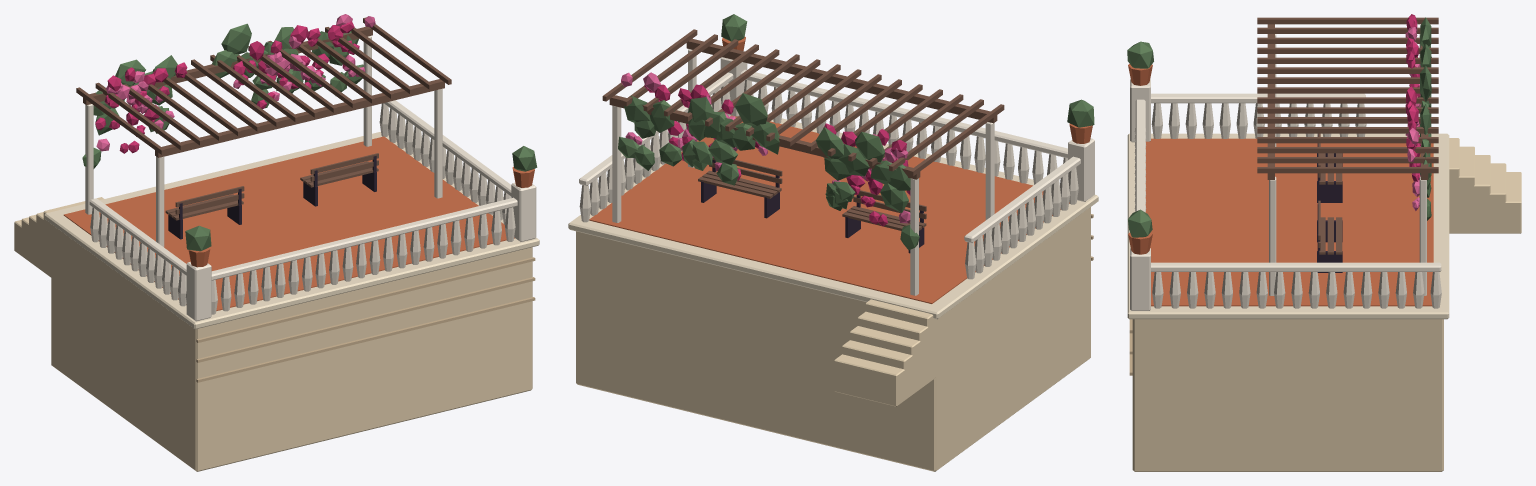
File: belvedere.glb
3 renders of one model, left to right at view 1: azimuth 30°, elevation 25°; view 2: azimuth 150°, elevation 25°; view 3: azimuth 270°, elevation 25°, orthographic. The views are drawn at different scales.
Visible parts, largest first — view 1: belvedere; view 2: belvedere; view 3: belvedere.
Boxes of the visible parts, x1,y1,x2,y2 form: belvedere: [14, 14, 539, 471]; belvedere: [568, 14, 1098, 471]; belvedere: [1127, 14, 1521, 471].
Bounding box in the file's own units: 8.24 × 6.87 × 7.61.
